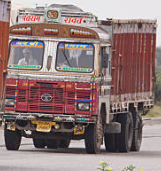truck: (4, 1, 158, 156)
